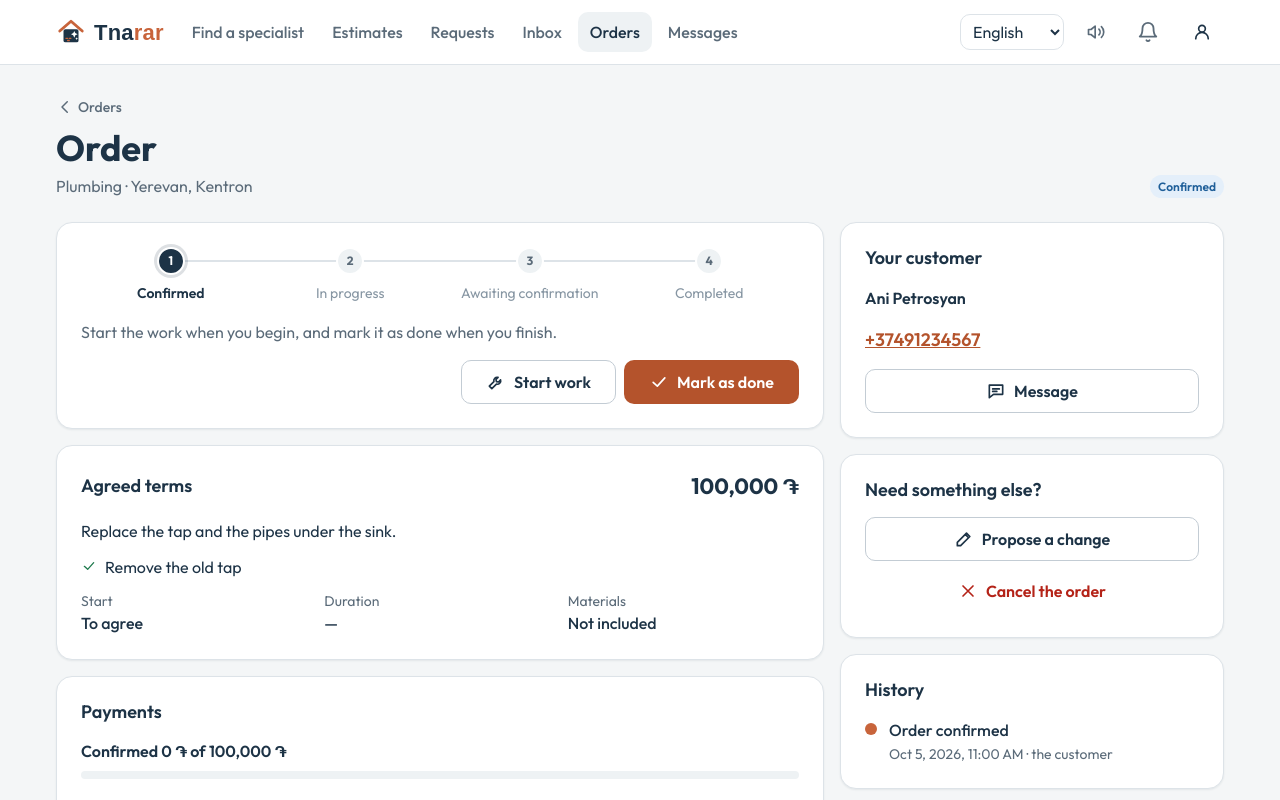
Order steps › lets the partner start and mark the work as done
Check: the text "Start the work when you begin, and mark it as done when you finish." is shown, box top-left (81, 322), bottom-right (557, 342)
Click the button "Start work": (538, 382) top-left (461, 360), bottom-right (616, 404)
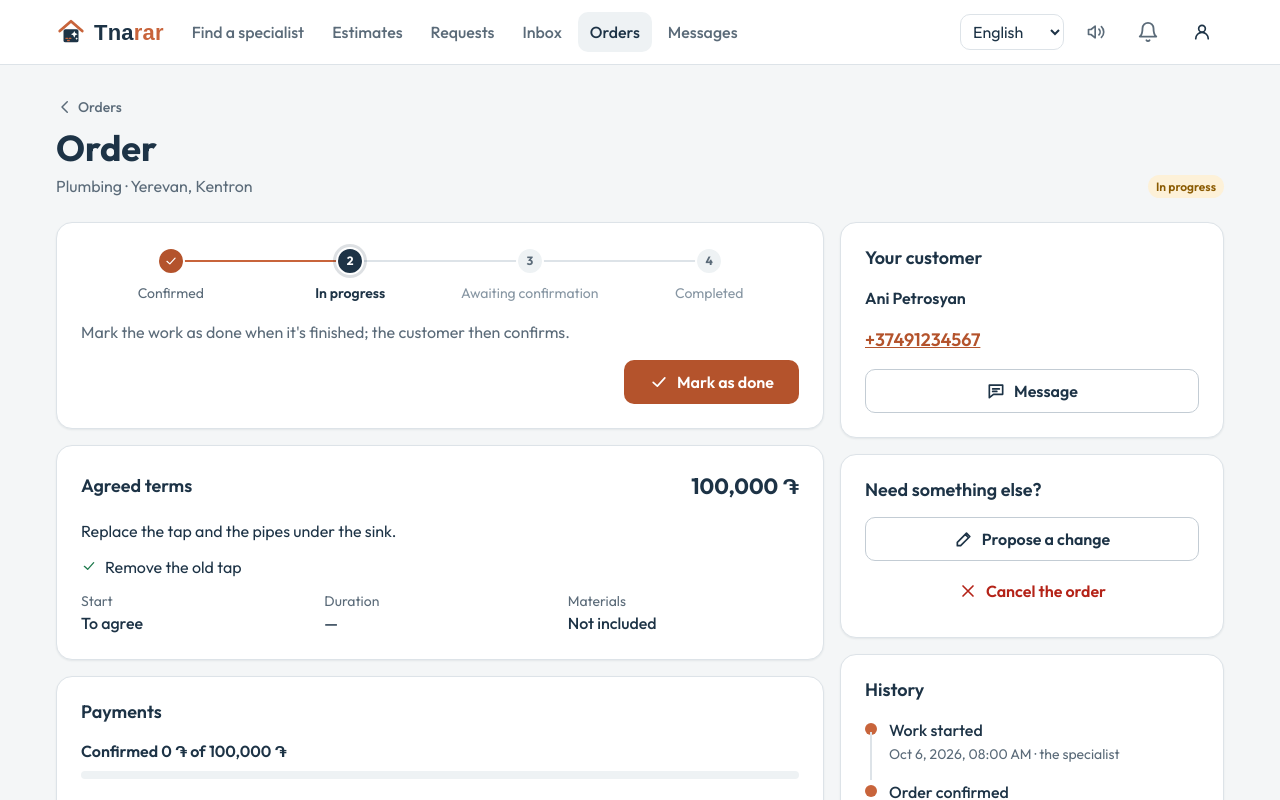
Check: the text "Mark the work as done when it's finished; the customer then confirms." is shown, box top-left (81, 322), bottom-right (570, 342)
Check: the text "Work started" is shown, box top-left (889, 720), bottom-right (983, 740)
Check: the button "Start work" is gone
Click the button "Mark as done": (712, 382) top-left (624, 360), bottom-right (799, 404)
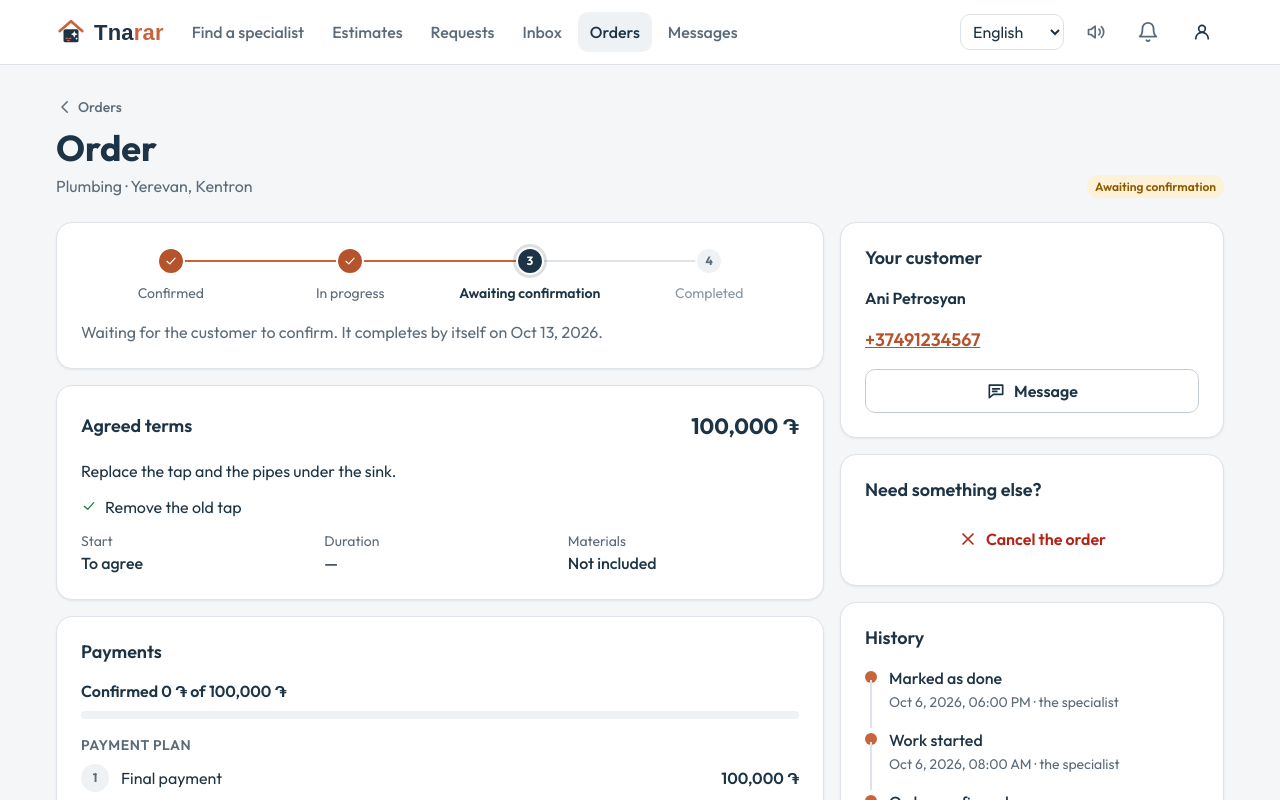
Check: the button "Propose a change" is gone
